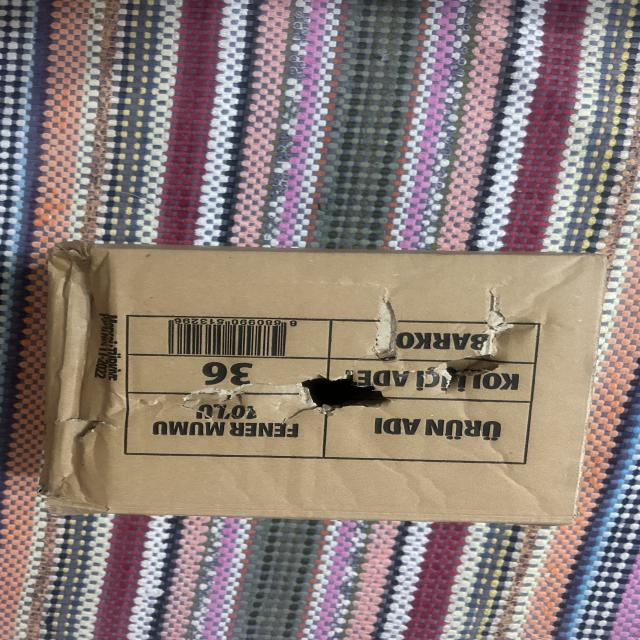damaged: (51, 238, 594, 528), (37, 240, 134, 517), (175, 372, 404, 418), (440, 291, 518, 400), (367, 280, 413, 366)
